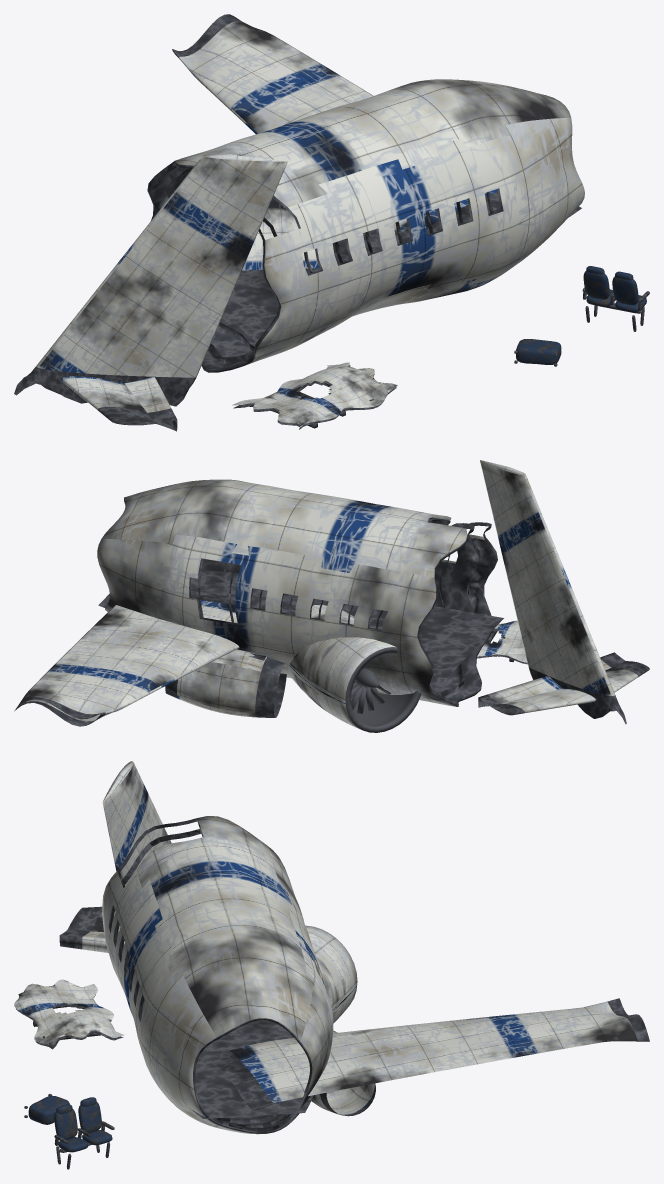
The model's file is plane_wreckage_flight404.glb.
3 views of the same model, one above another, from view 1: azimuth 30°, elevation 25°; view 2: azimuth 150°, elevation 25°; view 3: azimuth 270°, elevation 25° (orthographic). The views are drawn at different scales.
Visible parts, largest first — view 1: plane_fuselage, plane_tail_fin, plane_wing, plane_panel_debris, plane_seat, plane_engine.001, plane_suitcase; view 2: plane_fuselage, plane_wing, plane_tail_fin, plane_engine.001, plane_panel_debris; view 3: plane_fuselage, plane_wing, plane_tail_fin, plane_panel_debris, plane_engine.001, plane_seat, plane_suitcase.
Part boxes in pixels (bbox=[...]): plane_fuselage: bbox=[147, 79, 584, 372]; plane_tail_fin: bbox=[14, 154, 287, 431]; plane_wing: bbox=[172, 14, 500, 234]; plane_panel_debris: bbox=[232, 362, 397, 429]; plane_seat: bbox=[582, 266, 649, 331]; plane_engine.001: bbox=[242, 208, 319, 270]; plane_suitcase: bbox=[514, 339, 561, 366]; plane_fuselage: bbox=[97, 479, 503, 706]; plane_wing: bbox=[14, 591, 286, 726]; plane_tail_fin: bbox=[478, 460, 649, 724]; plane_engine.001: bbox=[288, 604, 421, 732]; plane_panel_debris: bbox=[477, 620, 527, 664]; plane_fuselage: bbox=[102, 816, 333, 1134]; plane_wing: bbox=[213, 998, 649, 1116]; plane_tail_fin: bbox=[59, 761, 171, 952]; plane_panel_debris: bbox=[14, 979, 125, 1049]; plane_engine.001: bbox=[305, 925, 357, 1023]; plane_seat: bbox=[54, 1097, 114, 1169]; plane_suitcase: bbox=[24, 1094, 69, 1124].
Bounding box in the file's own units: 10.8 × 4.62 × 11.24.
Materials: 3 (3 with a texture image).
